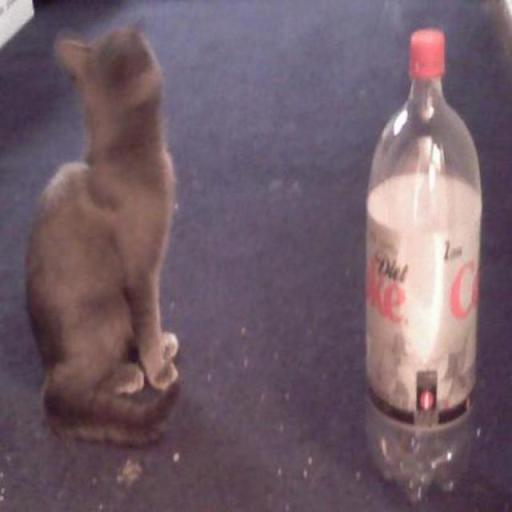Coca: (360, 22, 486, 506)
